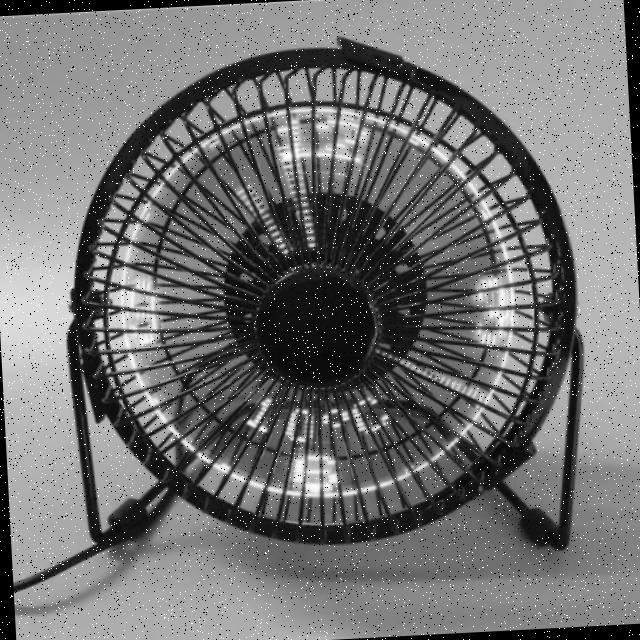fan: (50, 31, 592, 564)
